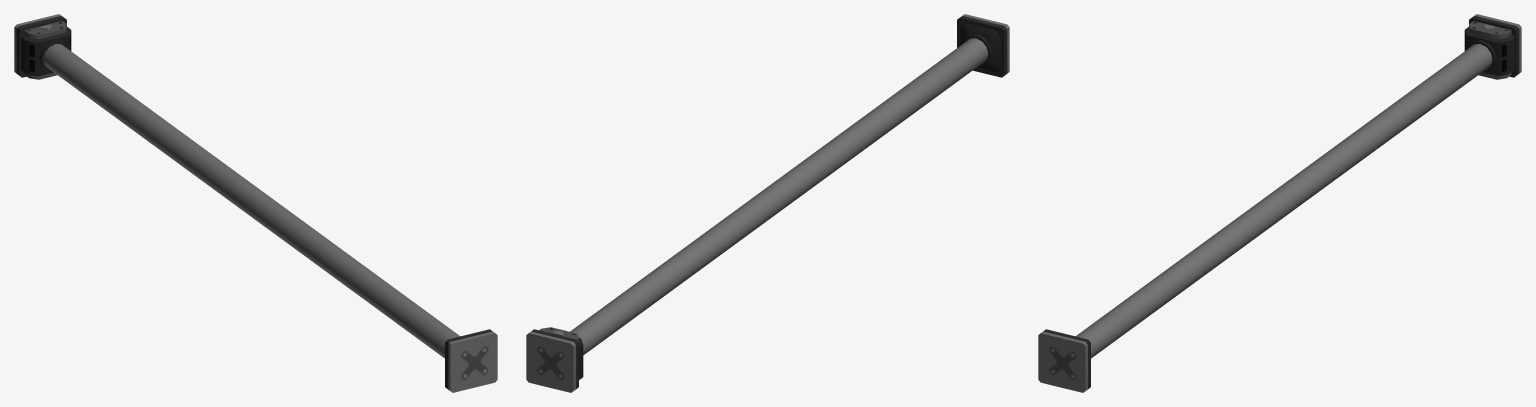
Rendered from obj_interactive_piston_02_on.fbx.
3 renders of one model, left to right at view 1: azimuth 30°, elevation 25°; view 2: azimuth 150°, elevation 25°; view 3: azimuth 330°, elevation 25°, orthographic.
Parts seen in each view (by area): view 1: obj_interactive_piston_02_on; view 2: obj_interactive_piston_02_on; view 3: obj_interactive_piston_02_on.
Part boxes in pixels (left/top/right/bottom): obj_interactive_piston_02_on: left=14, top=14, right=497, bottom=392; obj_interactive_piston_02_on: left=526, top=14, right=1009, bottom=392; obj_interactive_piston_02_on: left=1038, top=14, right=1521, bottom=392.
Size of the model in its own units: 1 by 1 by 16.
